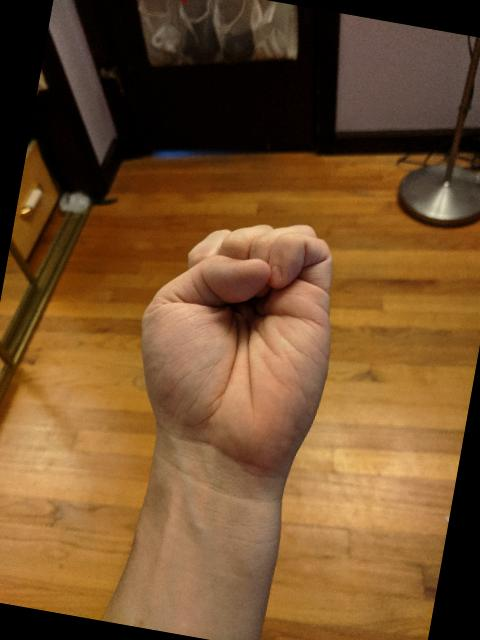E: (111, 195, 360, 494)
